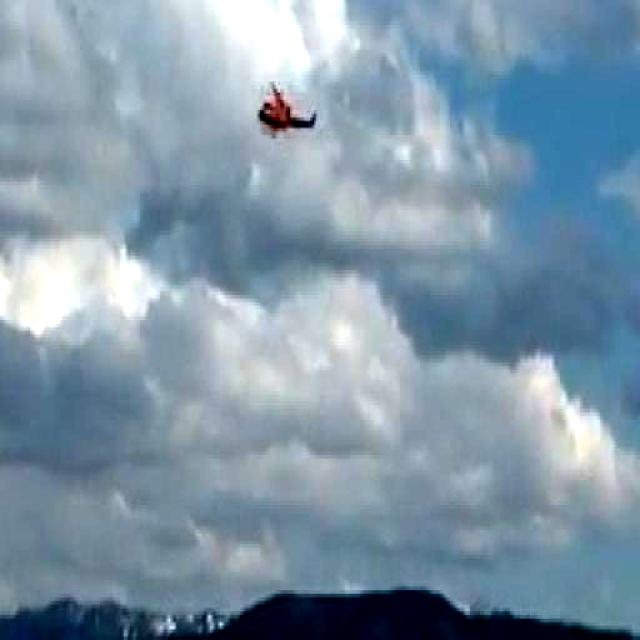drone: (244, 71, 329, 156)
